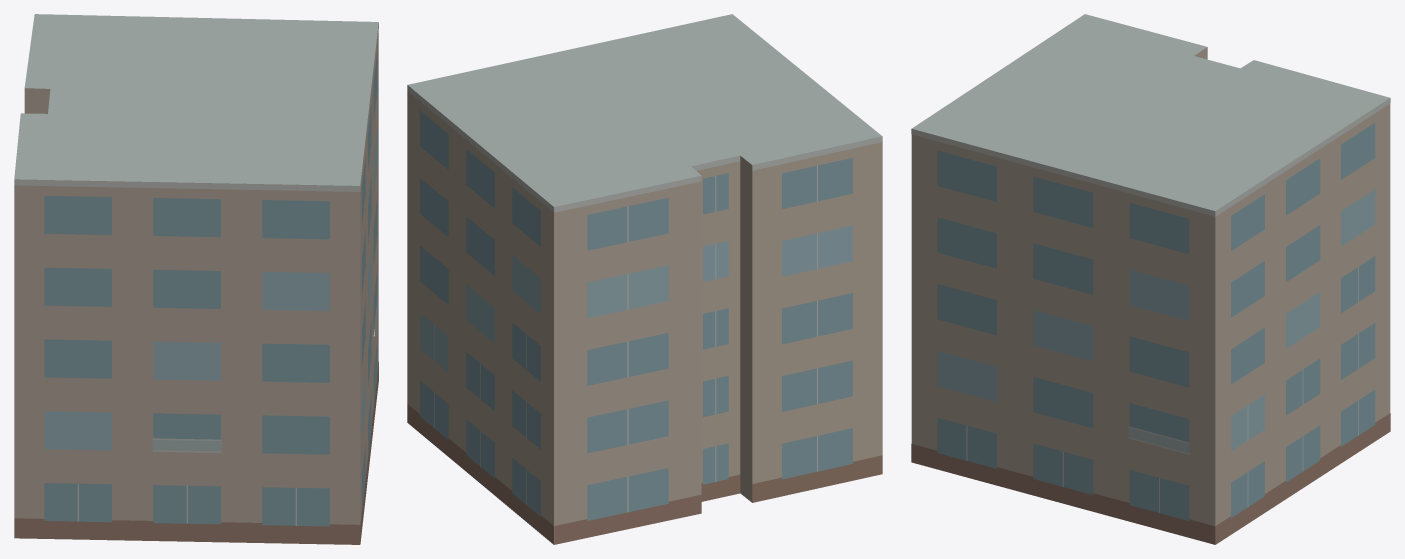
File: survey-upis-33014691.glb
The picture shows the model from 3 angles, left to right: view 1: azimuth 30°, elevation 25°; view 2: azimuth 150°, elevation 25°; view 3: azimuth 270°, elevation 25°; orthographic projection. The views are drawn at different scales.
Visible parts, largest first — view 1: survey-upis-33014691.tmp; view 2: survey-upis-33014691.tmp; view 3: survey-upis-33014691.tmp.
Part boxes in pixels (box(x1,y1,x2,y2)): survey-upis-33014691.tmp: box(14, 14, 378, 544); survey-upis-33014691.tmp: box(407, 14, 882, 544); survey-upis-33014691.tmp: box(911, 14, 1390, 544).
Size of the model in its own units: 18.39 by 14.5 by 18.87.
